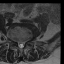CCS_normal: (20, 41, 22, 50)
LFS_normal: (25, 37, 27, 44)
LLS_normal: (22, 41, 25, 48)
RFS_severe_stenosis: (15, 38, 17, 45)
RLS_normal: (17, 40, 20, 49)
